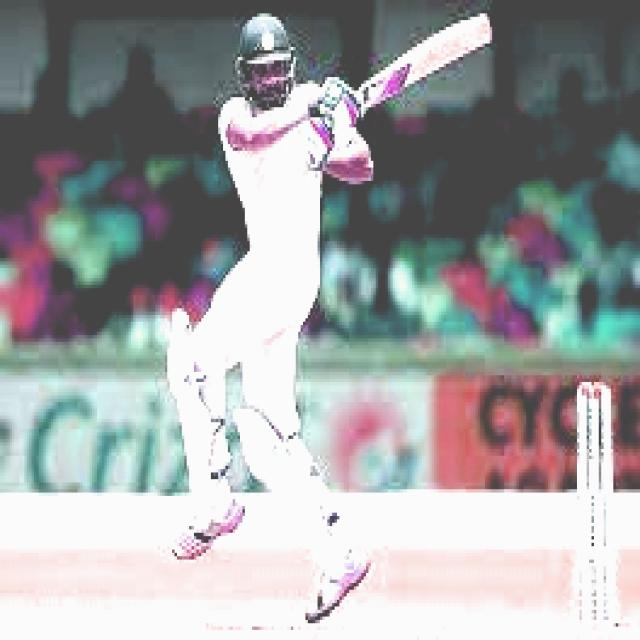toe: (477, 12, 494, 48)
